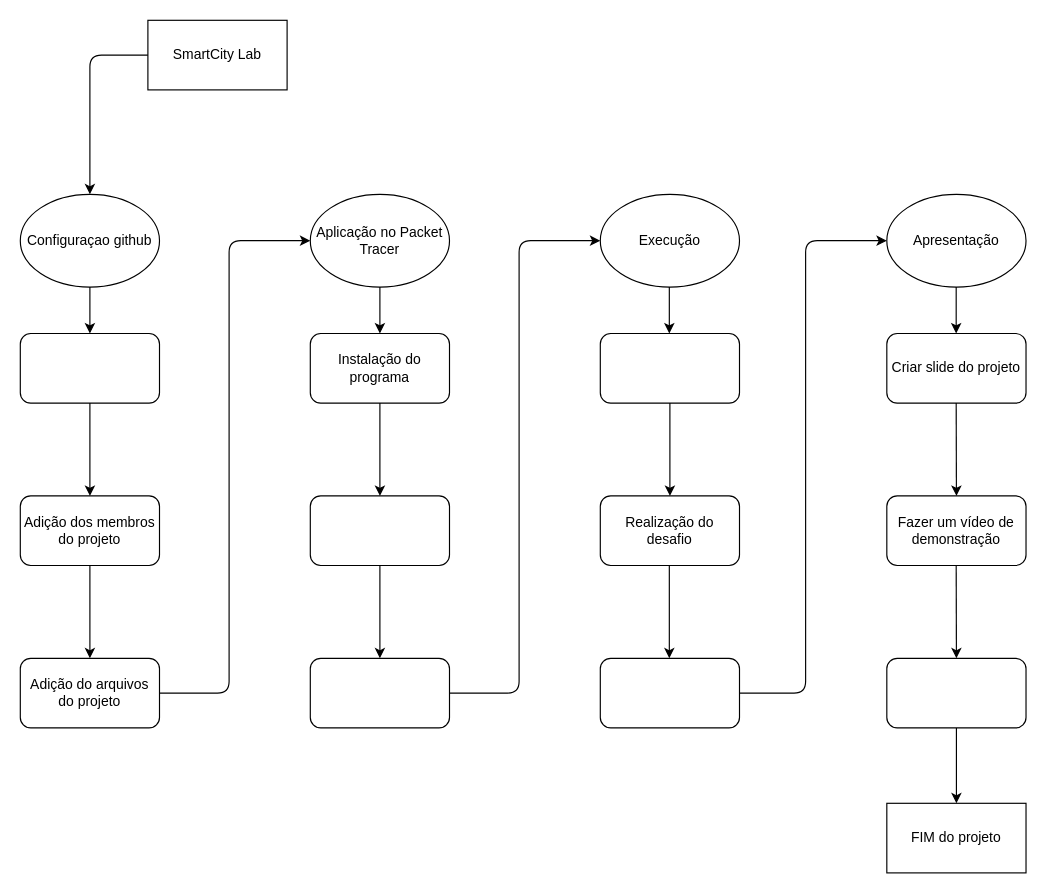
The diagram is 1046 pixels wide and 893 high, and some of its shapes have lost their labels. Here are the shapes that lost their labels. From the top down, the centre of each, then its label:
the point at 89,367: Criação do repositório
the point at 669,367: Realização das Atividades
the point at 379,530: Configuração do ambiente
the point at 379,692: Execução do projeto
the point at 669,692: Criação da apresentação
the point at 956,692: Apresentação final
